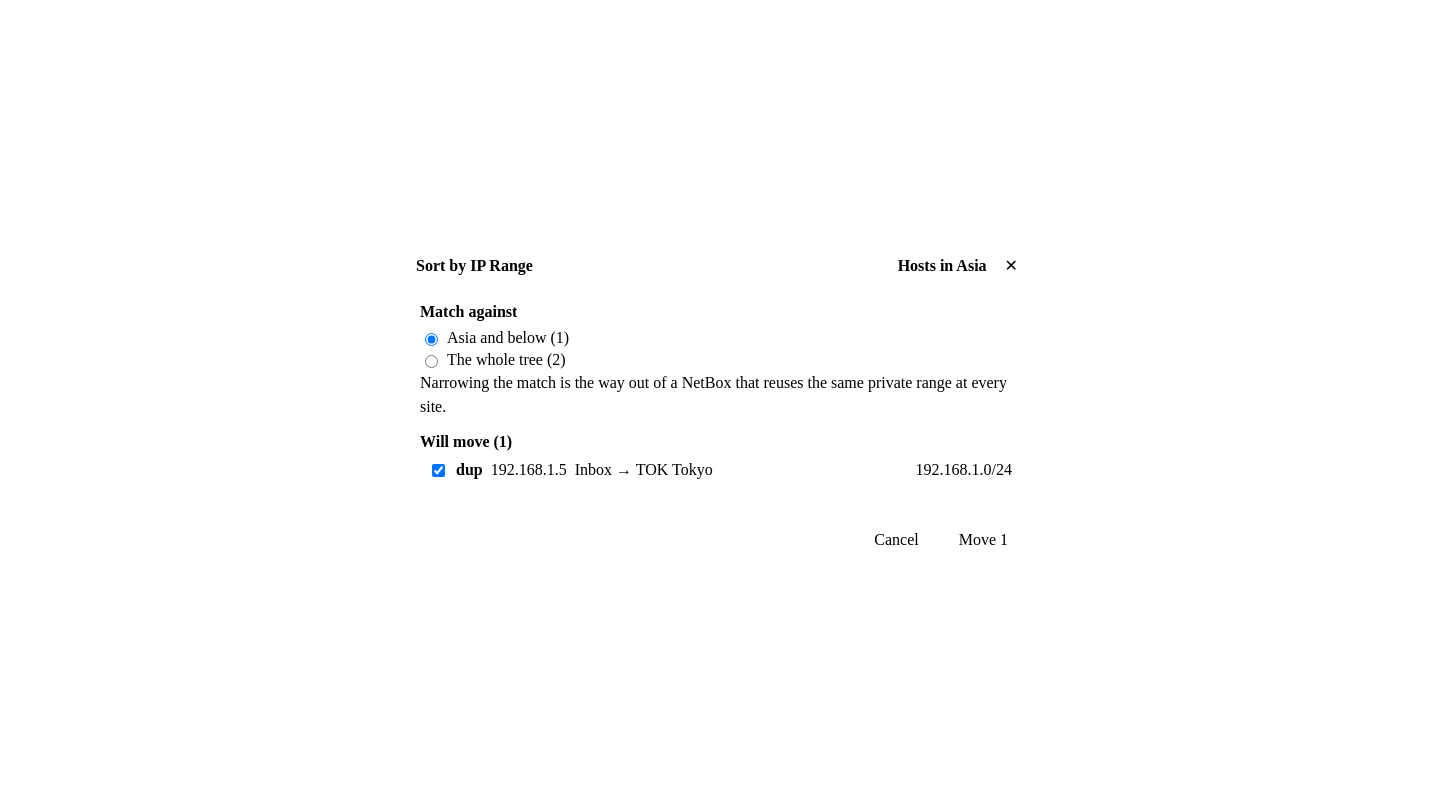
Test: MoveByPrefixModal › narrows the candidates to the scope subtree by default
Check: the text "Will move (1)" is shown, box [420,432,512,450]
# Widening brings the second claimant back and the host turns ambiguous.
Click the radio button labelled "The whole tree (2)".
click(432, 361)  # box [425,354,438,368]
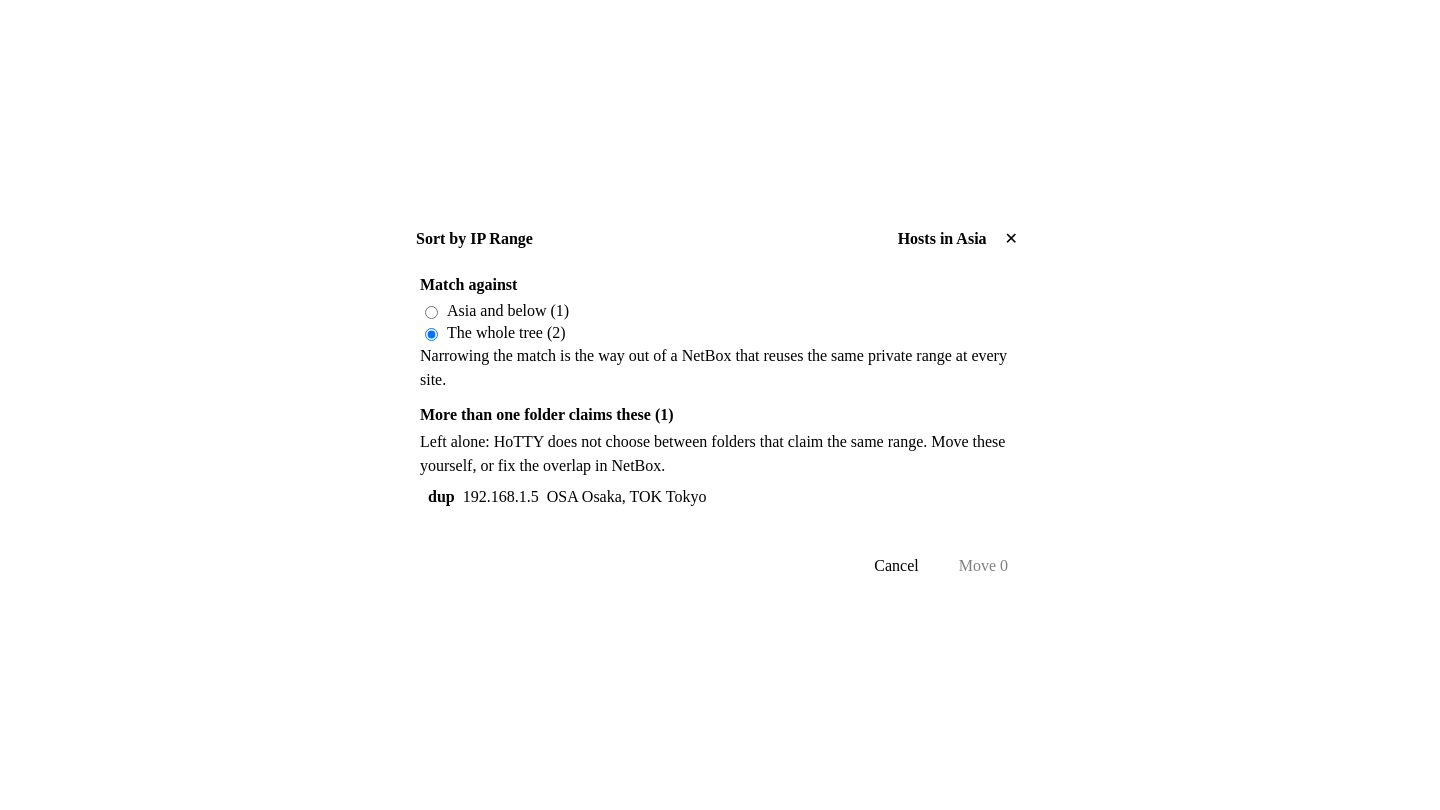
Check: the text "More than one folder claims these (1)" is shown, box [420,406,674,423]
